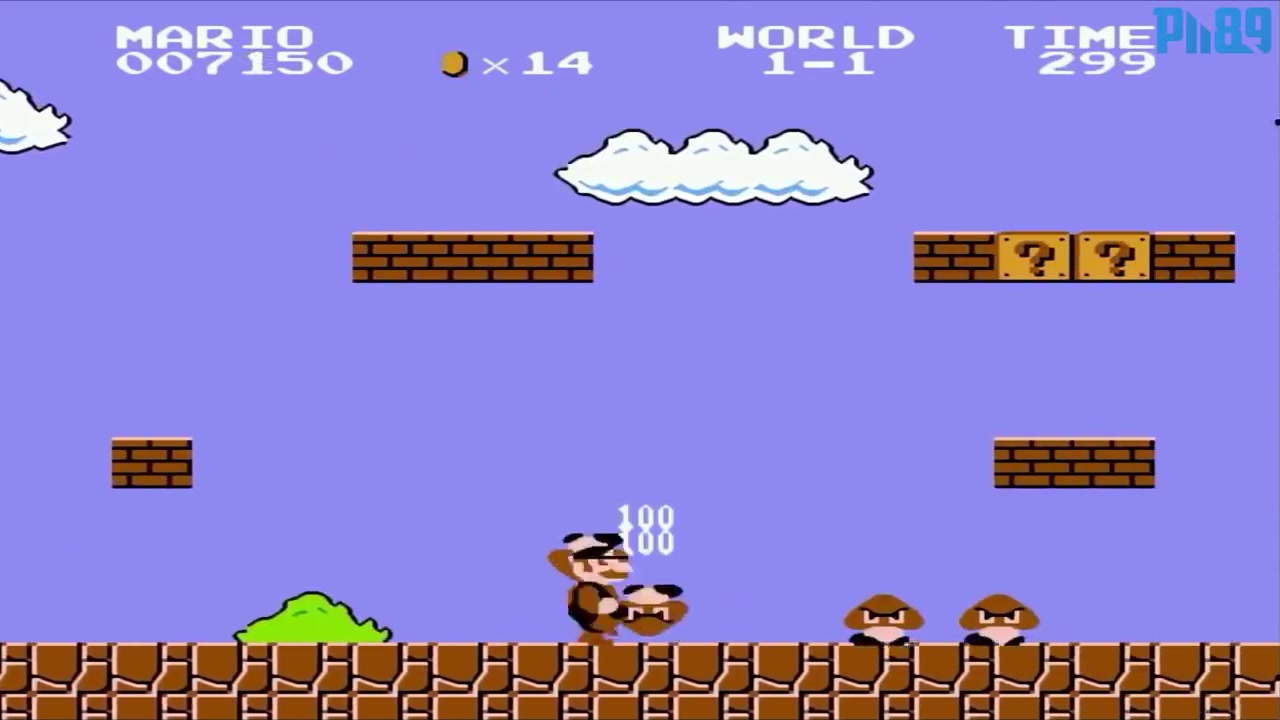mario: (553, 540, 639, 645)
